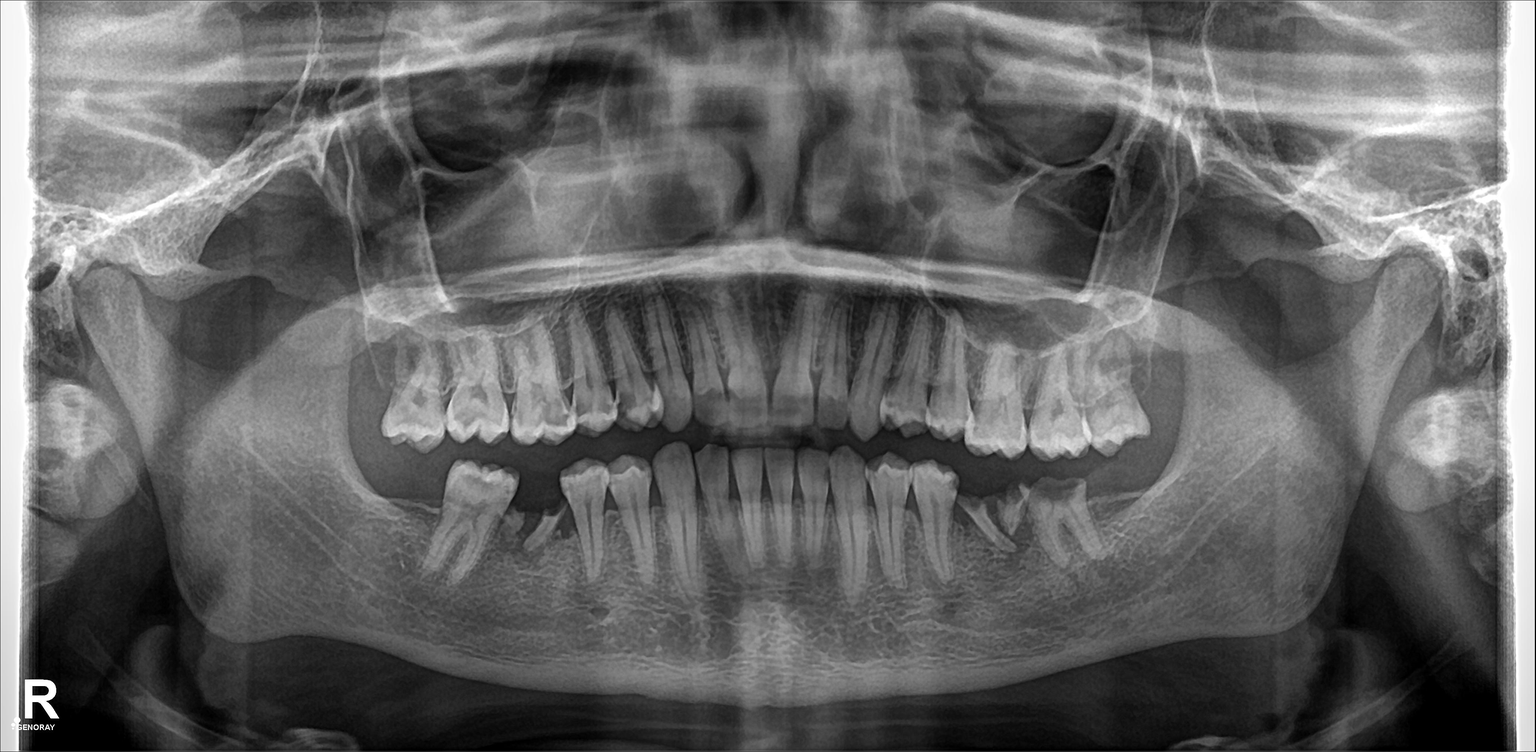Dental Caries: (1037, 477, 1085, 508)
Missing Tooth: (356, 454, 401, 563), (1145, 331, 1189, 422), (350, 344, 390, 436), (1101, 475, 1147, 548), (400, 460, 438, 533)
Retained Root: (514, 480, 565, 572), (959, 475, 997, 560), (1002, 473, 1032, 557)
